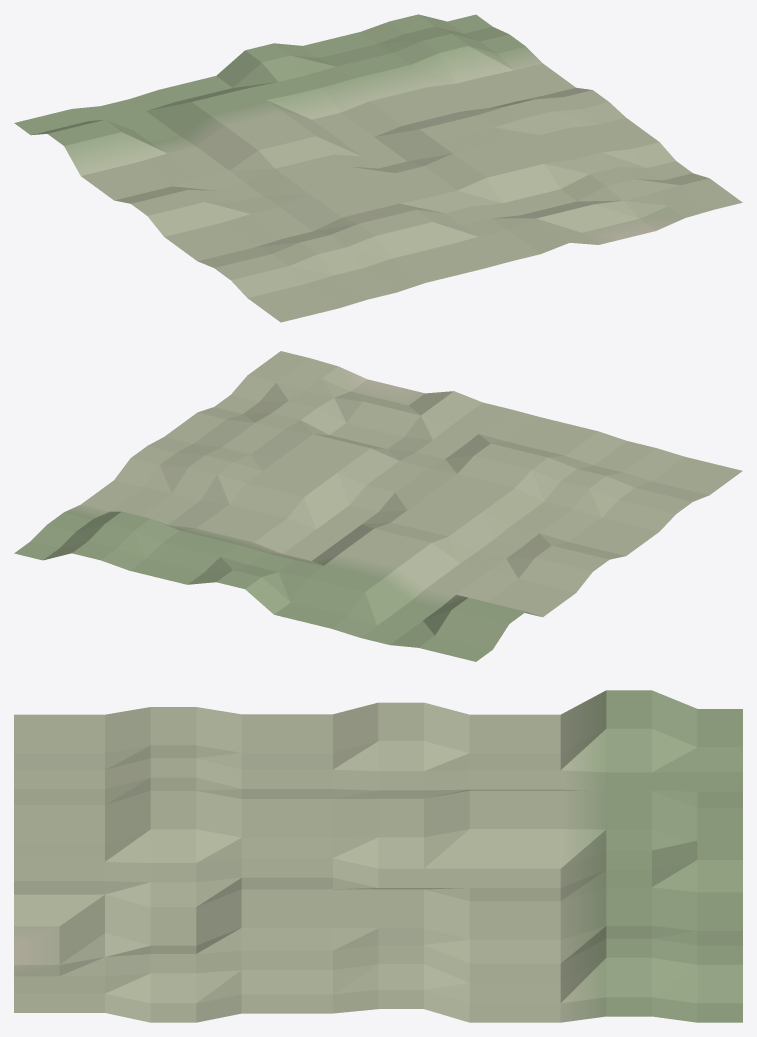
The picture shows the model from 3 angles, top to bottom: view 1: azimuth 30°, elevation 25°; view 2: azimuth 150°, elevation 25°; view 3: azimuth 270°, elevation 25°; orthographic projection. The views are drawn at different scales.
Bounding box in the file's own units: 32 × 1.36 × 32.
